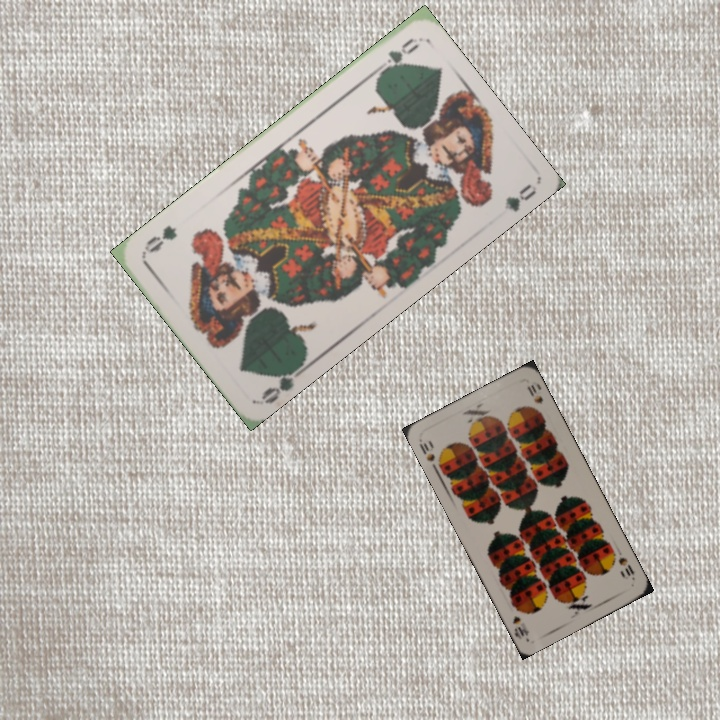GO: (369, 34, 422, 80), (257, 361, 309, 407)
S10: (415, 436, 445, 474), (614, 553, 637, 578)
